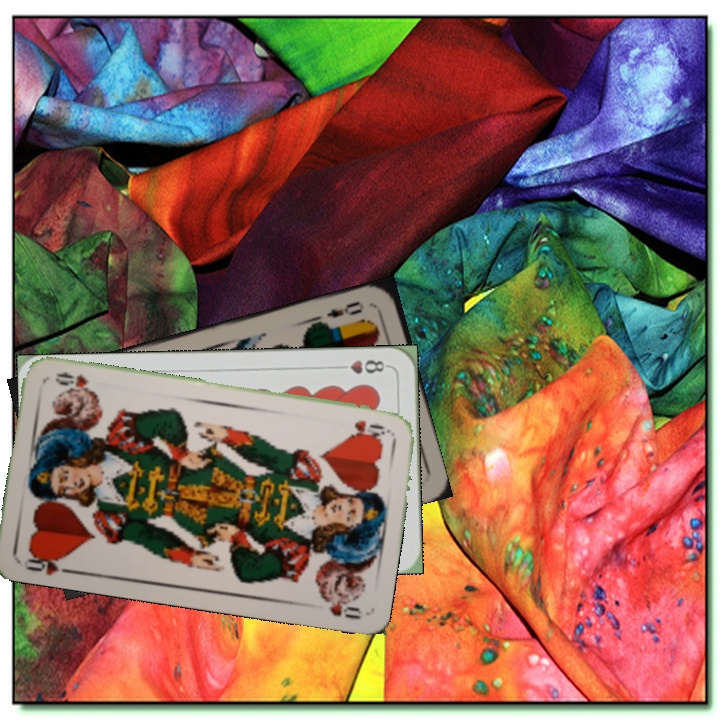EO: (322, 297, 367, 321)
H8: (332, 355, 391, 376)
HO: (19, 547, 77, 578), (346, 416, 392, 441)
